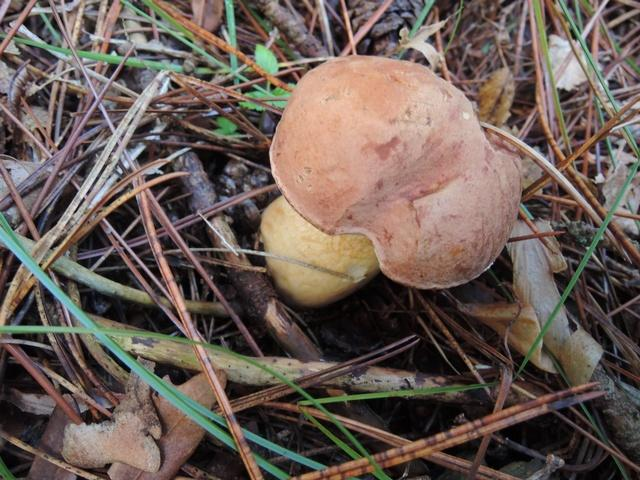poisonous_mushroom: (258, 53, 523, 308)
